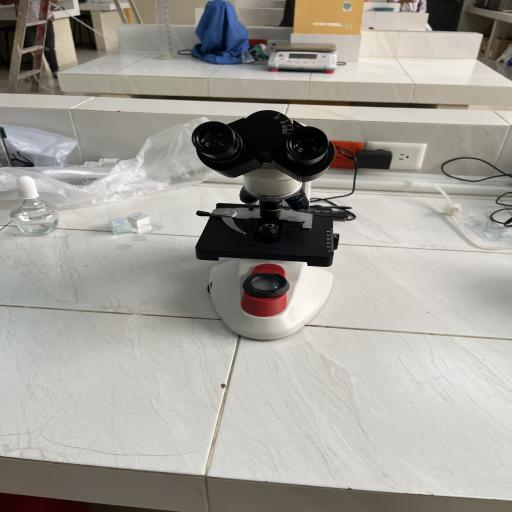Microscopio_Binocular: (168, 102, 366, 353)
